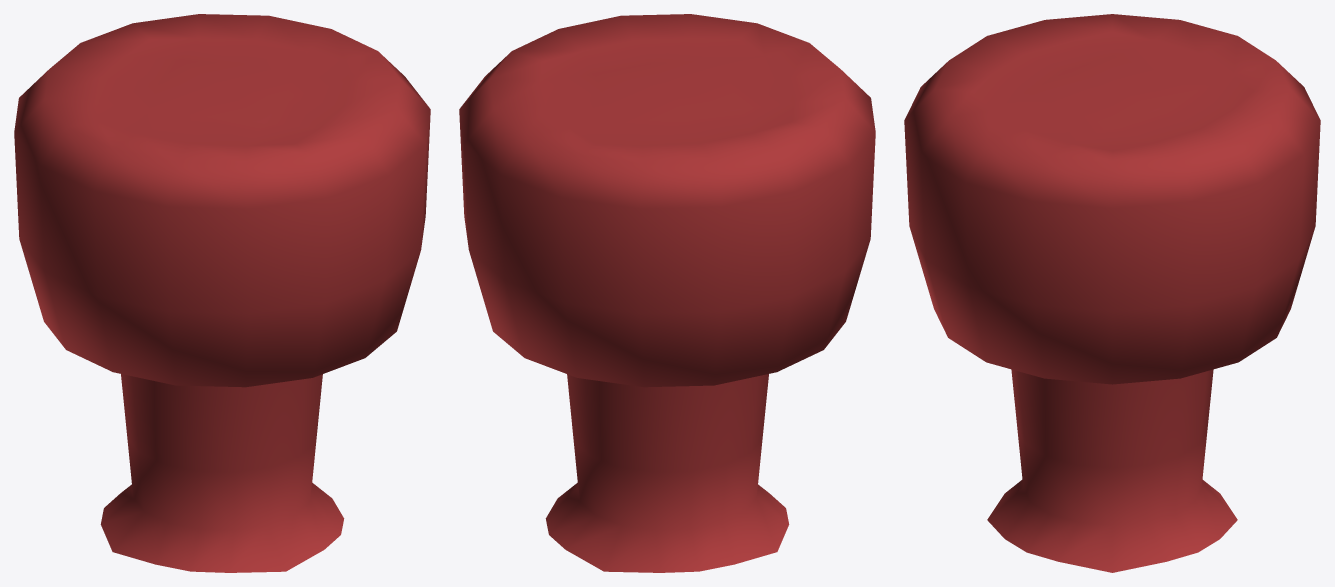
File: proteinSpikesFebVersion.fbx
3 renders of one model, left to right at view 1: azimuth 30°, elevation 25°; view 2: azimuth 150°, elevation 25°; view 3: azimuth 270°, elevation 25°, orthographic.
Parts seen in each view (by area): view 1: COVID19Virus_geo; view 2: COVID19Virus_geo; view 3: COVID19Virus_geo.
Boxes of the visible parts, box(x1,y1,x2,y2) form: COVID19Virus_geo: box(14, 14, 430, 572); COVID19Virus_geo: box(459, 14, 875, 572); COVID19Virus_geo: box(904, 14, 1320, 572).
Size of the model in its own units: 0.1317 by 0.1506 by 0.1317.
Materials: 1 (1 with a texture image).
